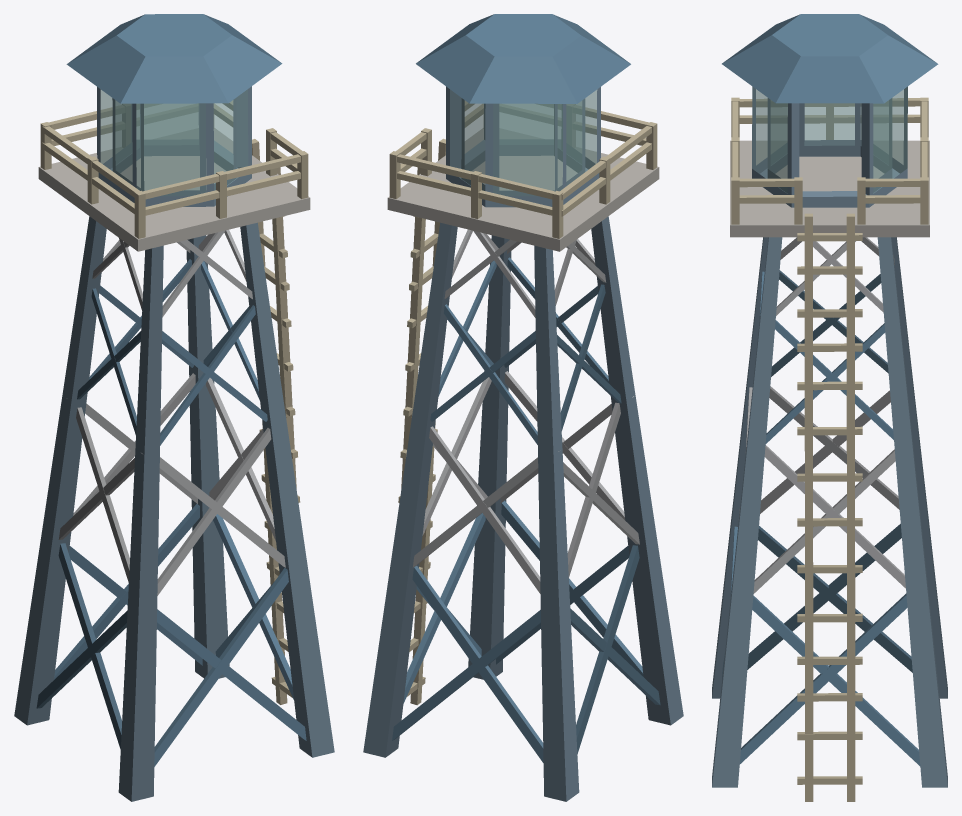
File: Watch Tower.fbx
3 views of the same model, side by side, from view 1: azimuth 30°, elevation 25°; view 2: azimuth 150°, elevation 25°; view 3: azimuth 270°, elevation 25° (orthographic).
Parts seen in each view (by area): view 1: pCube2, pCylinder1, pCube1, pPipe1, pCube3, pCube19, pCube5, pCube4, pCube18, pCube20, pCube40, pCube13 (+9 smaller); view 2: pCube3, pCube4, pCylinder1, pPipe1, pCube2, pCube20, pCube5, pCube1, pCube18, pCube19, pCube41, pCube13 (+9 smaller); view 3: pCylinder1, pPipe1, pCube1, pCube4, pCube5, pCube18, pCube41, pCube40, pCube13, pCube3, pCube2, pCube10 (+29 smaller).
Part boxes in pixels (bbox=[...]): pCube2: bbox=[118, 245, 163, 801]; pCylinder1: bbox=[66, 14, 282, 103]; pCube1: bbox=[240, 222, 334, 757]; pPipe1: bbox=[97, 86, 251, 206]; pCube3: bbox=[14, 216, 106, 725]; pCube19: bbox=[141, 230, 306, 766]; pCube5: bbox=[38, 128, 310, 251]; pCube4: bbox=[186, 235, 229, 678]; pCube18: bbox=[36, 238, 142, 748]; pCube20: bbox=[54, 240, 202, 679]; pCube40: bbox=[272, 167, 296, 488]; pCube13: bbox=[213, 514, 293, 699]; pCube3: bbox=[534, 245, 579, 801]; pCube4: bbox=[363, 222, 457, 757]; pCylinder1: bbox=[416, 14, 630, 103]; pPipe1: bbox=[446, 86, 600, 207]; pCube2: bbox=[591, 216, 683, 725]; pCube20: bbox=[392, 230, 558, 762]; pCube5: bbox=[387, 128, 659, 251]; pCube1: bbox=[468, 235, 511, 679]; pCube18: bbox=[554, 239, 660, 754]; pCube19: bbox=[496, 239, 643, 676]; pCube41: bbox=[401, 167, 425, 488]; pCube13: bbox=[403, 513, 485, 703]; pCylinder1: bbox=[722, 14, 938, 103]; pPipe1: bbox=[752, 86, 907, 207]; pCube1: bbox=[712, 237, 782, 787]; pCube4: bbox=[877, 237, 947, 787]; pCube5: bbox=[730, 140, 929, 237]; pCube18: bbox=[747, 237, 912, 672]; pCube41: bbox=[846, 213, 855, 801]; pCube40: bbox=[804, 213, 813, 801]; pCube13: bbox=[739, 593, 920, 766]; pCube3: bbox=[891, 237, 947, 698]; pCube2: bbox=[712, 237, 768, 698]; pCube10: bbox=[753, 445, 905, 593].
Size of the model in its own units: 4.93 by 14.88 by 4.49.
